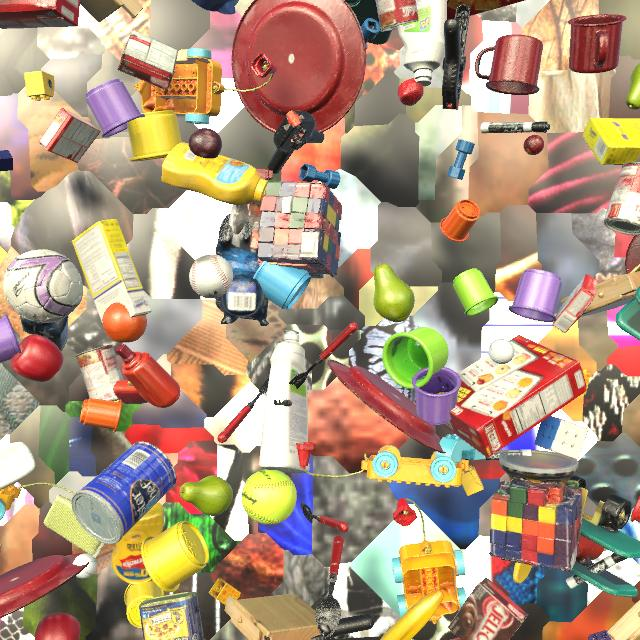ycb_002_master_chef_can: (71, 441, 177, 544)
ycb_003_cracker_box: (435, 335, 587, 458), (0, 0, 80, 29), (447, 0, 525, 20)
ycb_004_sugar_box: (72, 219, 152, 321), (583, 118, 640, 165)
ycb_005_tomato_soup_can: (76, 344, 123, 401), (604, 162, 640, 235), (376, 0, 419, 32)
ycb_006_mustard_bottle: (161, 142, 268, 205), (111, 502, 164, 585)
ycb_008_pudding_box: (448, 578, 528, 640), (117, 30, 178, 91), (0, 544, 1, 550)
ycb_009_gelatin_box: (38, 108, 101, 163), (552, 274, 599, 333)
ycb_010_potted_meat_can: (139, 592, 206, 640)
ycb_011_banana: (380, 589, 444, 640)
ycb_012_strawberry: (397, 78, 424, 106)
ycb_013_apple: (10, 334, 64, 382), (34, 613, 81, 640)
ycb_016_pear: (373, 263, 415, 322), (179, 475, 233, 516), (626, 63, 640, 110)
ycb_017_orange: (102, 302, 147, 343)
ycb_018_plum: (188, 128, 222, 159)
